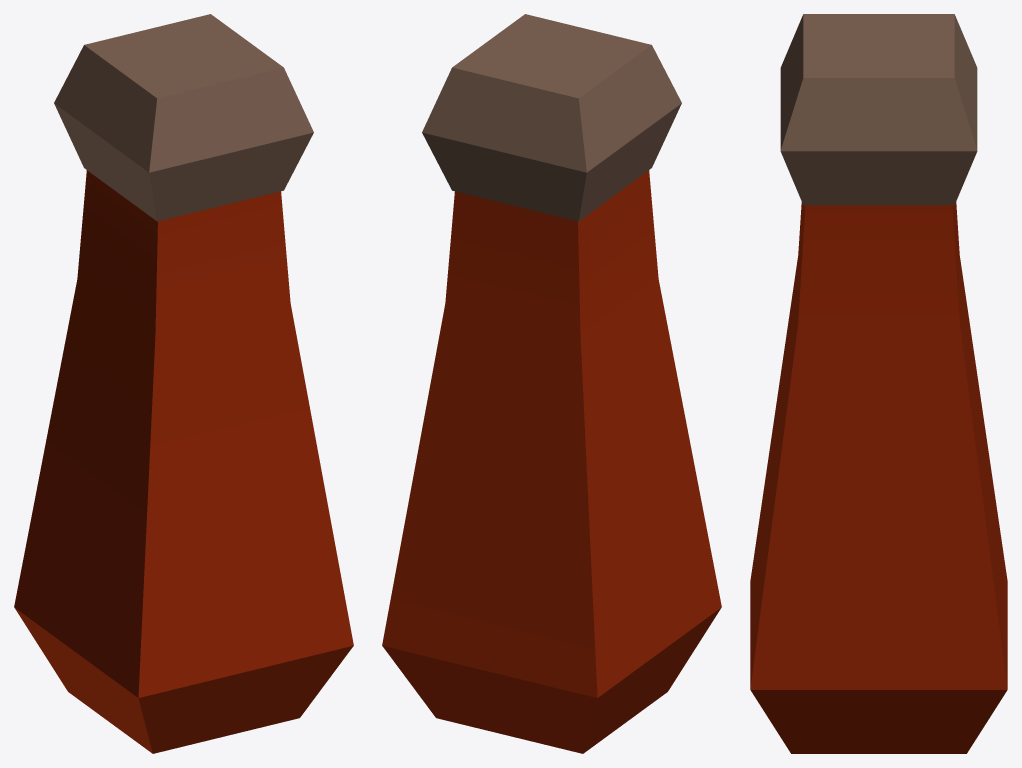
Rendered from Small Health Potion.fbx.
3 renders of one model, left to right at view 1: azimuth 30°, elevation 25°; view 2: azimuth 150°, elevation 25°; view 3: azimuth 270°, elevation 25°, orthographic. The views are drawn at different scales.
Parts seen in each view (by area): view 1: pCube3; view 2: pCube3; view 3: pCube3.
Part boxes in pixels (box(x1,y1,x2,y2)): pCube3: box(14, 14, 353, 753); pCube3: box(382, 14, 721, 753); pCube3: box(750, 14, 1007, 753).
Size of the model in its own units: 26.75 by 76.97 by 26.75.
